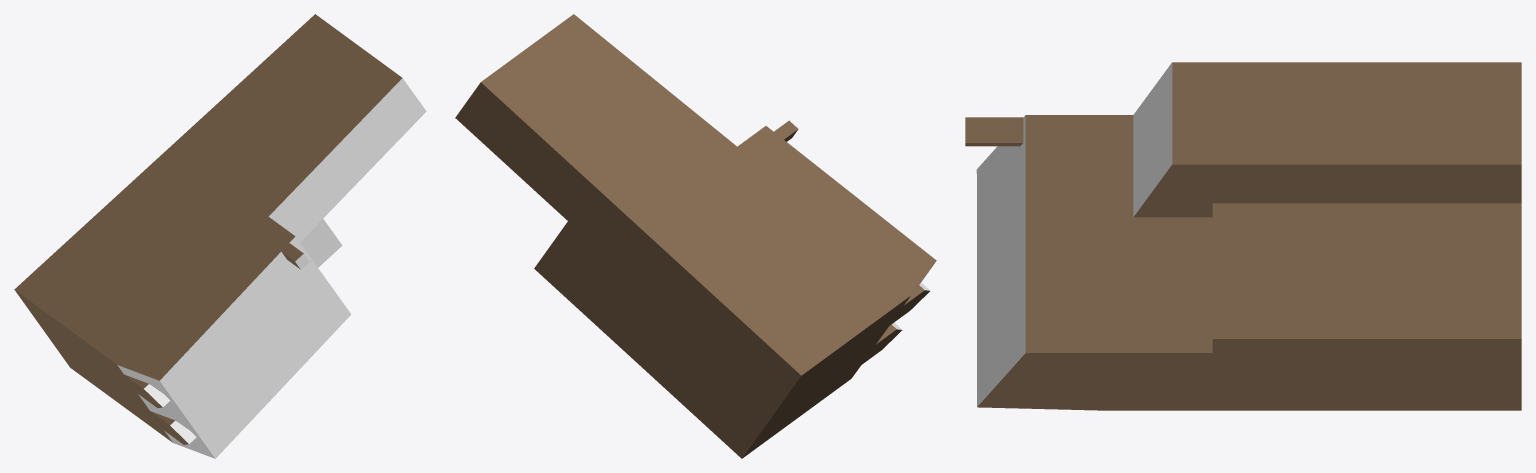
3 views of the same model, side by side, from view 1: azimuth 30°, elevation 25°; view 2: azimuth 150°, elevation 25°; view 3: azimuth 270°, elevation 25° (orthographic). The views are drawn at different scales.
Parts seen in each view (by area): view 1: City_1202573; view 2: City_1202573; view 3: City_1202573.
Boxes of the visible parts, x1,y1,x2,y2 form: City_1202573: (14,14,426,458); City_1202573: (455,14,936,458); City_1202573: (965,62,1521,410).
Bounding box in the file's own units: 2055 × 1776 × 1523.
